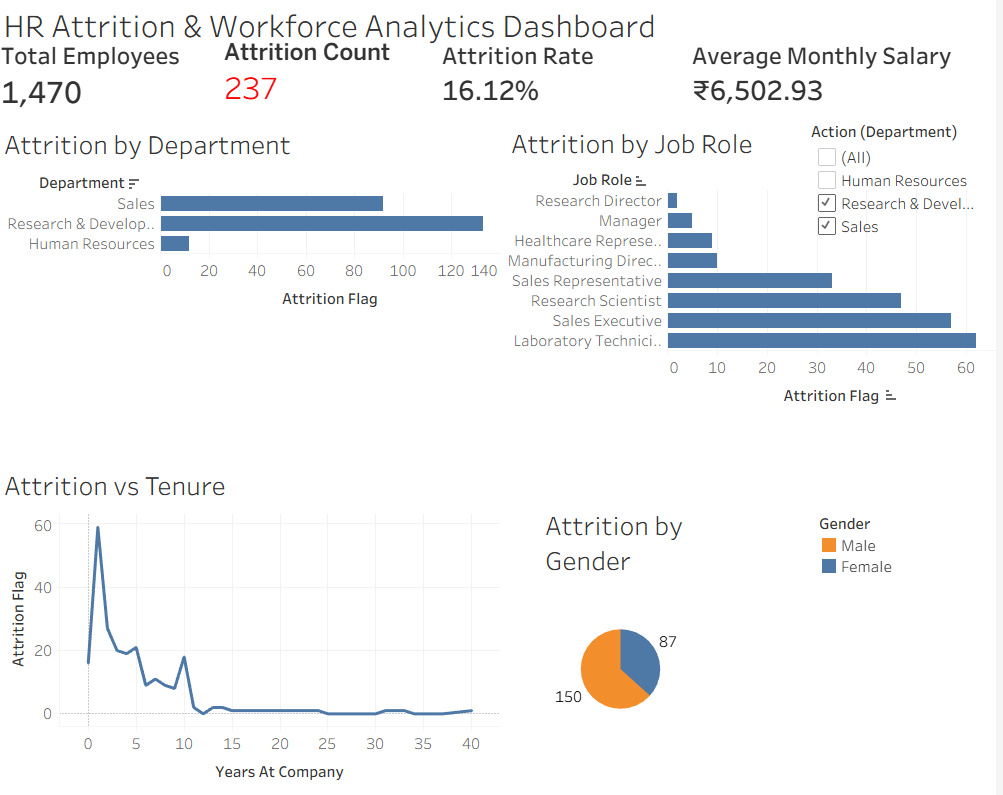

Layout of this report page (visuals, bound fields, positions):
{"tool":"tableau","page":{"name":"HR Attrition & Workforce Analytics Dashboard","canvas":[1000,800],"ordinal":0},"visuals":[{"type":"worksheet","title":"KPI – Attrition Count","mark":"Automatic","box":[220,35,218,132]},{"type":"worksheet","title":"KPI – Attrition Rate","mark":"Automatic","box":[438,35,250,132]},{"type":"worksheet","title":"KPI – Avg Salary","mark":"Automatic","box":[688,35,298,132]},{"type":"worksheet","title":"Attrition by Job Role","mark":"Automatic","rows":["JobRole"],"cols":["Calculation_0679247143178240"],"box":[507,118,497,352]},{"type":"worksheet","title":"Attrition by Department","mark":"Automatic","rows":["Department"],"cols":["Calculation_0679247143178240"],"box":[0,119,508,341]},{"type":"worksheet","title":"Attrition vs Tenure","mark":"Line","rows":["Calculation_0679247143178240"],"cols":["YearsAtCompany"],"box":[0,460,508,333]},{"type":"worksheet","title":"Attrition by Gender","mark":"Pie","box":[545,504,451,272]},{"type":"legend","title":"Attrition by Gender","param":"[federated.1b1tlj11kn43on1g1nhew03juz6d].[none:Gender:nk]","box":[823,513,140,81]}]}

Visuals, with their boxes in screenshot pixels (x1, y1, x2, y2), scaled from the page's 1000x800 canvas onto the 1003x795 screenshot:
"KPI – Attrition Count" worksheet: 221/35/439/166
"KPI – Attrition Rate" worksheet: 439/35/690/166
"KPI – Avg Salary" worksheet: 690/35/989/166
"Attrition by Job Role" worksheet: 509/117/1002/467
"Attrition by Department" worksheet: 0/118/510/457
"Attrition vs Tenure" worksheet (Line marks): 0/457/510/788
"Attrition by Gender" worksheet (Pie marks): 547/501/999/771
"Attrition by Gender" legend: 825/510/966/590
